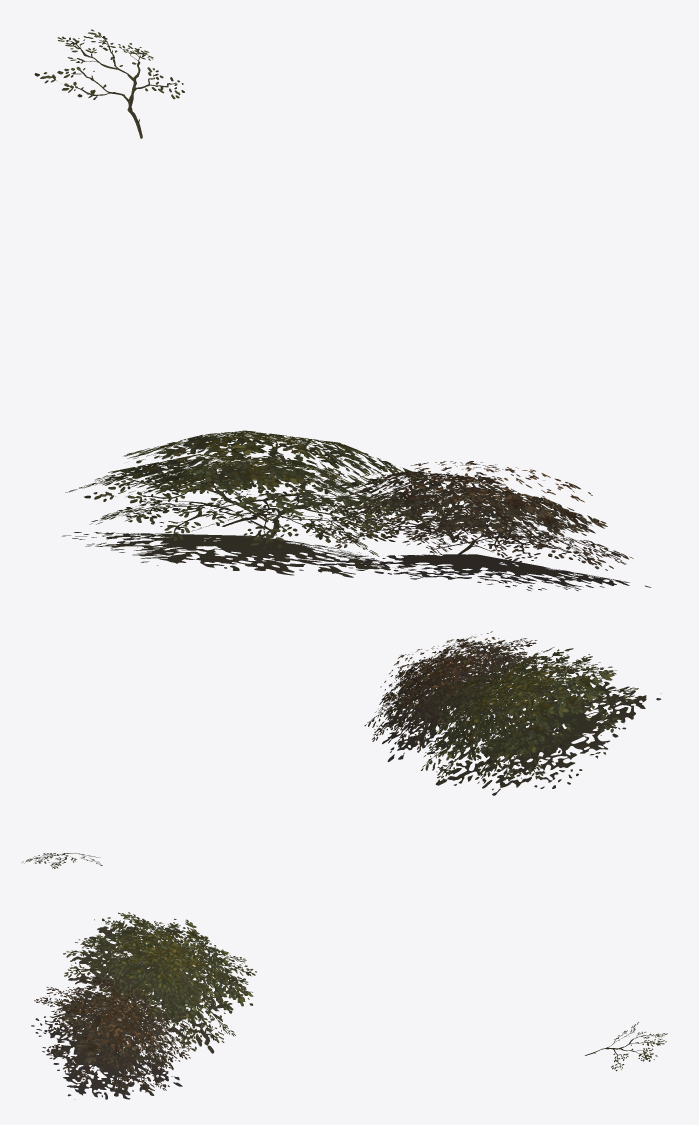
File: menu_plants_bushes03.fbx
3 views of the same model, one above another, from view 1: azimuth 30°, elevation 25°; view 2: azimuth 150°, elevation 25°; view 3: azimuth 270°, elevation 25° (orthographic). The views are drawn at different scales.
Visible parts, largest first — view 1: menu_plants_bushes03-0; view 2: menu_plants_bushes03-0; view 3: menu_plants_bushes03-0.
Part boxes in pixels (x1=…): menu_plants_bushes03-0: x1=34, y1=29, x2=651, y2=591; menu_plants_bushes03-0: x1=22, y1=631, x2=661, y2=868; menu_plants_bushes03-0: x1=31, y1=912, x2=667, y2=1099.
Bounding box in the file's own units: 6.73 × 2.23 × 12.65.
